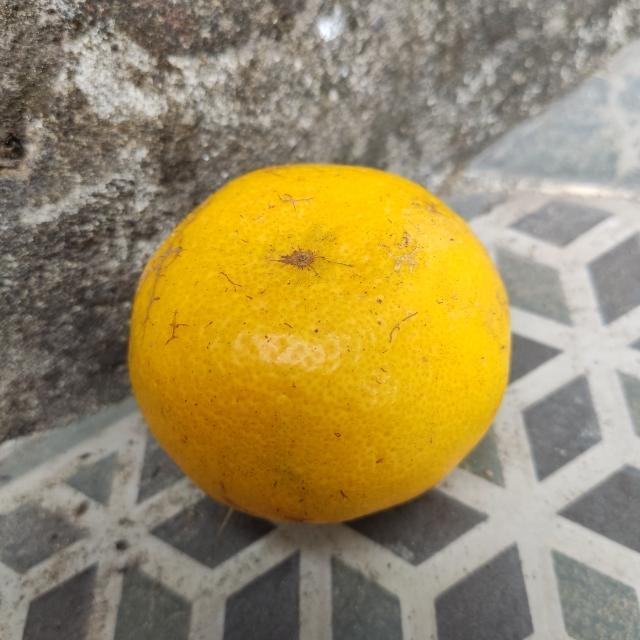agrume: (126, 160, 514, 530)
